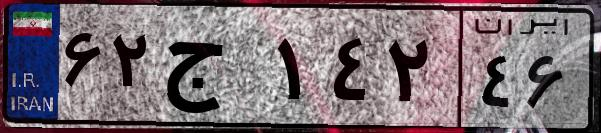1: (270, 28, 330, 110)
2: (385, 28, 445, 110), (110, 28, 158, 98)
4: (330, 28, 385, 110), (475, 38, 525, 113)
6: (57, 26, 110, 100), (525, 38, 570, 115)
ج: (158, 20, 270, 120)
